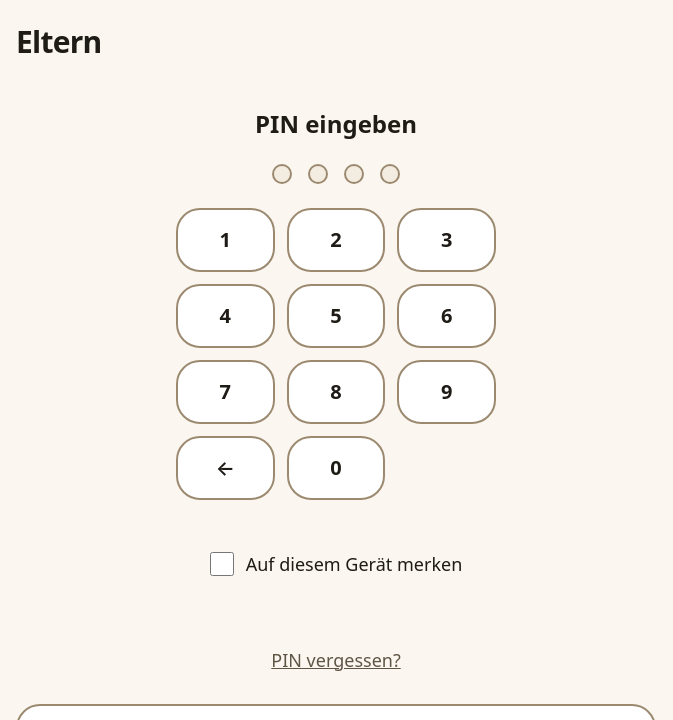
Schloss vor dem Elternbereich › bietet beim Vergessen den Weg über das Abmelden an
Expected: the heading "PIN eingeben" is shown, [255, 108, 417, 140]
Click the button "PIN vergessen?". click: point(336, 660)
box: [16, 628, 656, 692]
(page scrolled)
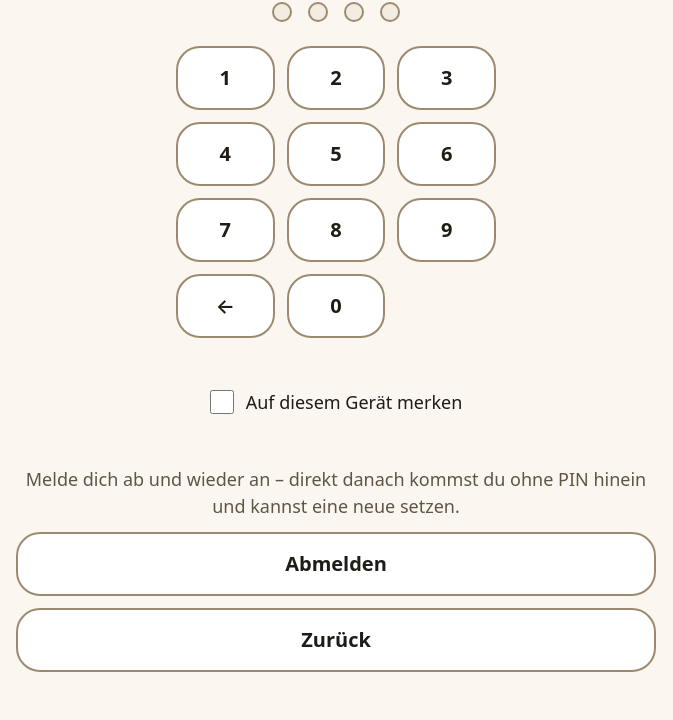
Expected: the button "Abmelden" is shown, [16, 532, 656, 596]
